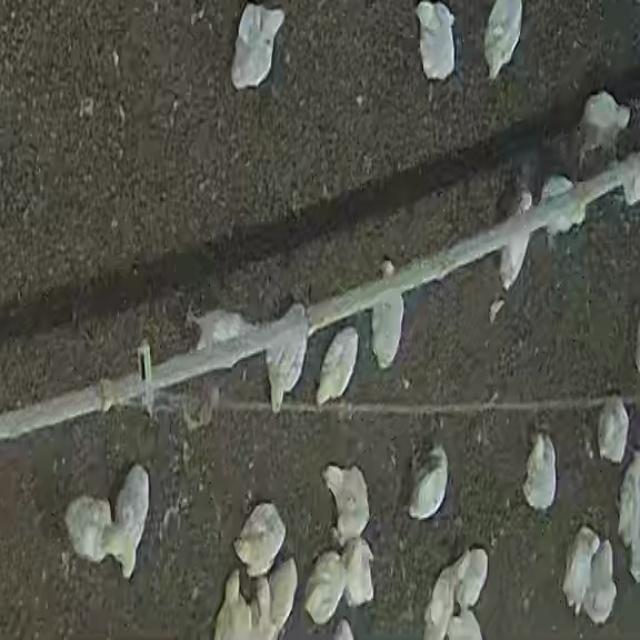chicken: (67, 497, 135, 579), (264, 308, 309, 413), (498, 186, 540, 297), (233, 3, 284, 92), (423, 553, 472, 640), (234, 500, 288, 578), (370, 259, 406, 369), (323, 465, 371, 546), (576, 92, 630, 161), (316, 327, 360, 406), (303, 551, 348, 626), (563, 527, 601, 614), (416, 2, 456, 83), (484, 1, 524, 80), (409, 443, 448, 521), (582, 537, 616, 625), (619, 455, 640, 581), (118, 463, 149, 548), (266, 557, 302, 630), (524, 433, 557, 511), (340, 538, 376, 608), (192, 308, 245, 352), (218, 572, 252, 640), (598, 396, 630, 464), (458, 546, 488, 611)
